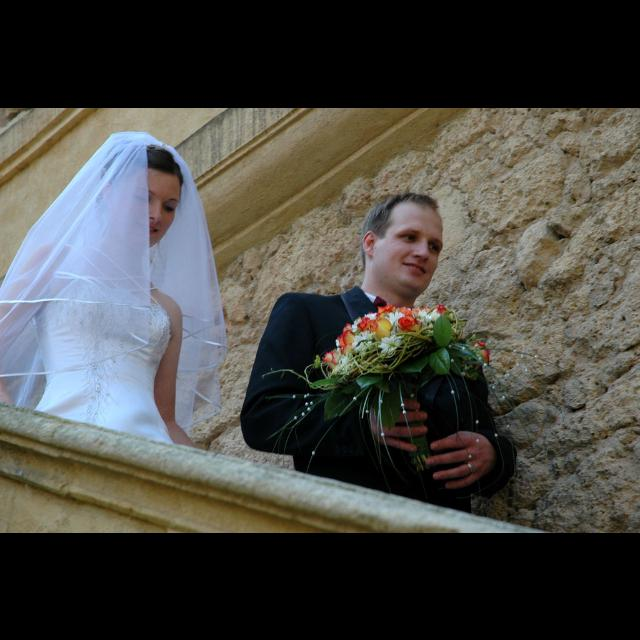Flower: (323, 303, 453, 369), (370, 317, 394, 338), (472, 342, 492, 362)
